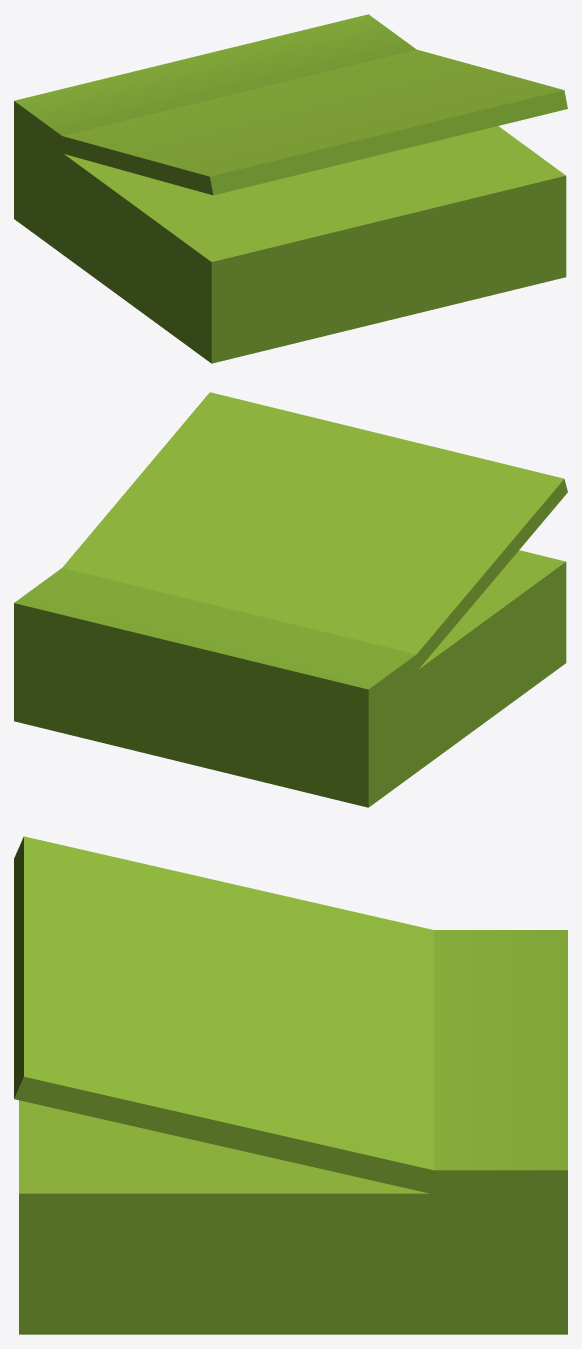
Rendered from SO_StickyNotesPack_02.fbx.
3 views of the same model, one above another, from view 1: azimuth 30°, elevation 25°; view 2: azimuth 150°, elevation 25°; view 3: azimuth 270°, elevation 25° (orthographic). The views are drawn at different scales.
Parts seen in each view (by area): view 1: SO_StickyNotesPack_02; view 2: SO_StickyNotesPack_02; view 3: SO_StickyNotesPack_02.
Boxes of the visible parts, <box> form: SO_StickyNotesPack_02: <box>14,14,567,363</box>; SO_StickyNotesPack_02: <box>14,392,567,807</box>; SO_StickyNotesPack_02: <box>14,836,567,1334</box>.
Bounding box in the file's own units: 0.195 × 0.0976 × 0.19.
